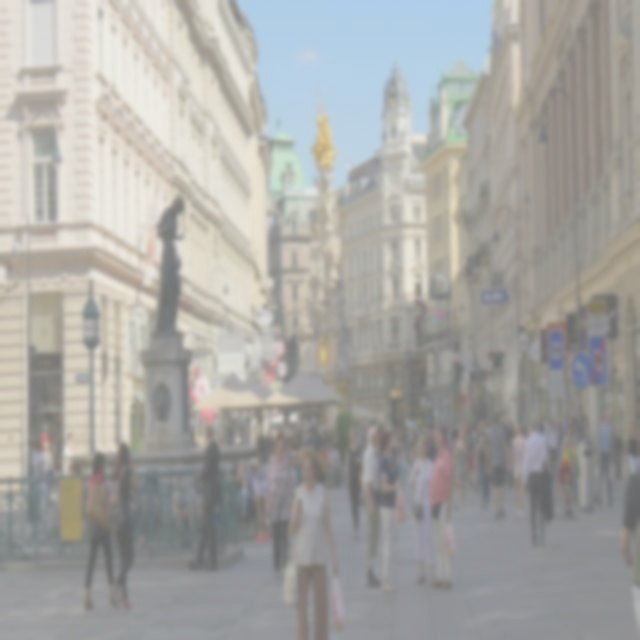pessoa: (288, 444, 342, 639), (82, 448, 120, 612), (106, 440, 141, 614), (186, 421, 222, 572), (154, 194, 187, 334), (266, 429, 296, 582), (408, 432, 437, 588), (377, 425, 403, 595), (428, 423, 454, 590), (361, 422, 384, 590), (521, 412, 549, 550), (483, 408, 511, 521), (618, 442, 640, 568), (343, 424, 366, 542), (592, 411, 615, 508), (172, 473, 200, 552), (508, 417, 528, 520), (139, 468, 162, 548), (254, 432, 270, 543), (228, 454, 248, 526), (452, 424, 468, 514), (476, 428, 492, 511), (246, 456, 260, 534), (30, 438, 43, 518), (626, 414, 640, 482), (560, 422, 577, 474), (326, 438, 342, 489), (547, 417, 559, 484), (40, 439, 55, 492), (464, 424, 476, 488), (560, 468, 576, 511), (392, 426, 405, 474), (424, 426, 438, 466), (128, 488, 140, 530), (318, 442, 329, 486), (66, 431, 76, 476), (334, 440, 342, 486), (406, 426, 416, 458), (304, 426, 318, 448), (189, 426, 203, 448), (192, 474, 201, 506), (106, 478, 118, 502), (502, 417, 514, 440), (68, 459, 82, 477), (376, 424, 383, 460), (592, 349, 603, 371), (448, 420, 458, 444), (536, 414, 548, 434), (582, 418, 592, 441), (556, 415, 567, 433), (51, 434, 58, 462), (265, 428, 274, 448), (470, 422, 480, 439), (40, 422, 49, 439), (551, 342, 560, 358), (432, 418, 446, 428), (362, 428, 368, 448), (571, 414, 580, 426), (234, 429, 241, 444), (328, 428, 336, 441), (522, 427, 530, 437), (220, 431, 224, 446), (480, 422, 486, 432), (464, 424, 468, 437), (418, 428, 424, 433)
